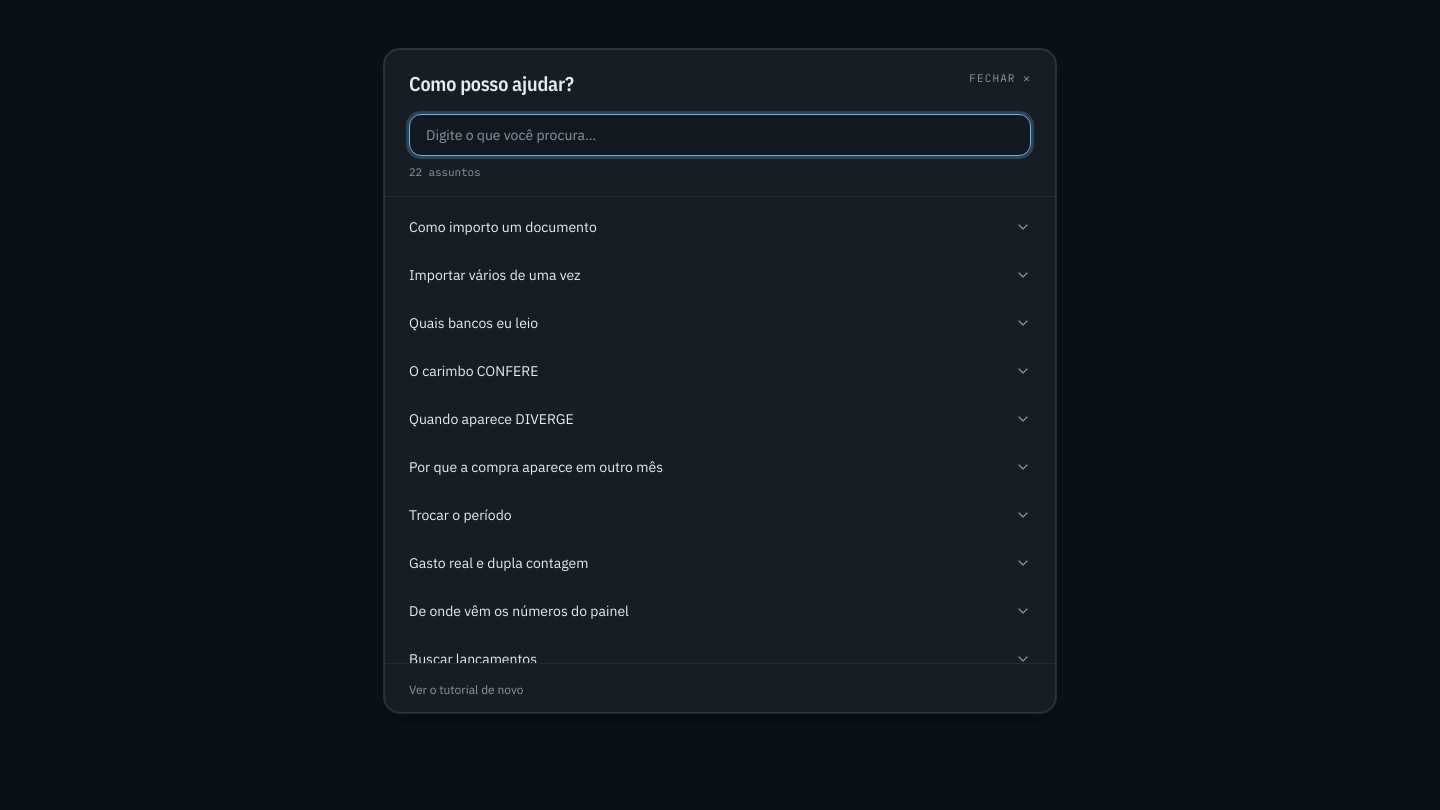
Test: Ajuda › o assunto abre e mostra a explicação
Click the button "Como importo um documento": [503, 227] box [397,205,1043,249]
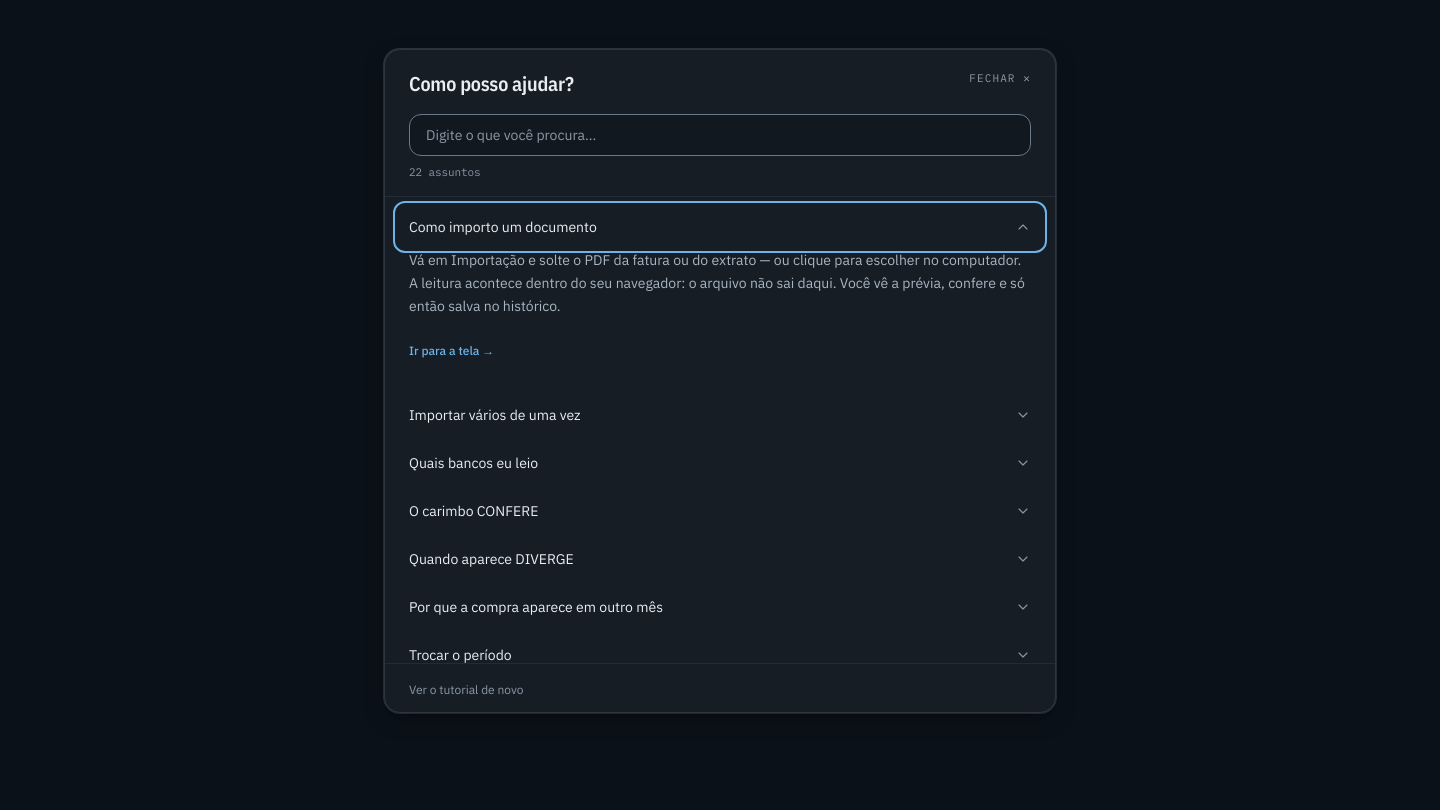
Expected: the text "a leitura acontece dentro do seu navegador" is shown, [409,251,1025,315]
